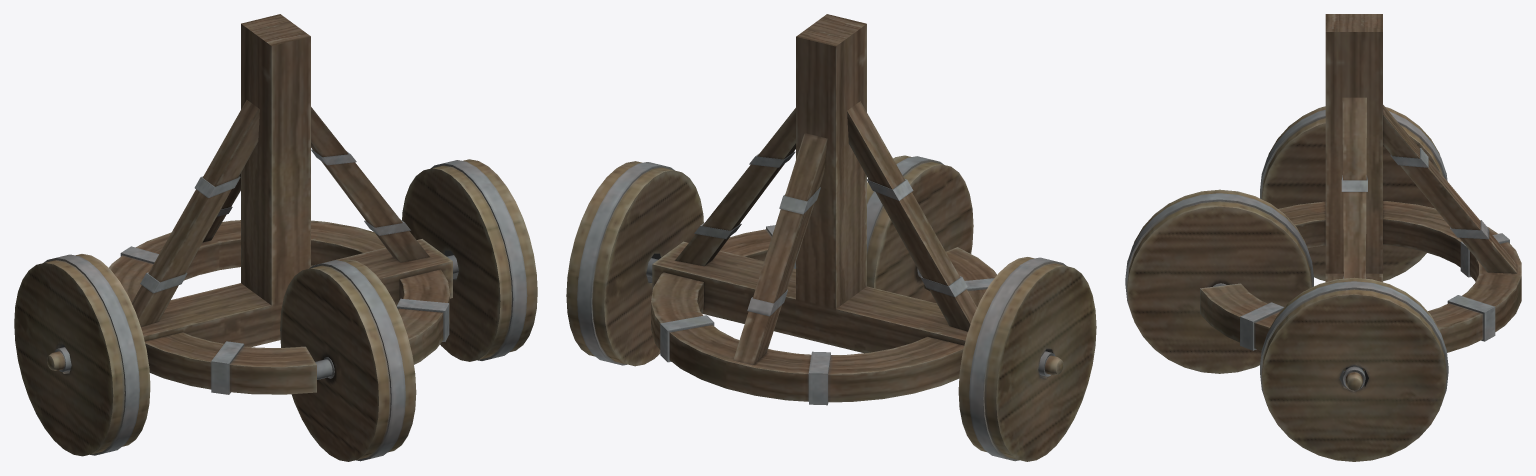
Rendered from SK_Harpoon_Ballista_a.fbx.
3 renders of one model, left to right at view 1: azimuth 30°, elevation 25°; view 2: azimuth 150°, elevation 25°; view 3: azimuth 270°, elevation 25°, orthographic. The views are drawn at different scales.
Parts seen in each view (by area): view 1: SK_Harpoon_Ballista_a; view 2: SK_Harpoon_Ballista_a; view 3: SK_Harpoon_Ballista_a.
Part boxes in pixels (<box>): SK_Harpoon_Ballista_a: <box>14,14,537,461</box>; SK_Harpoon_Ballista_a: <box>566,14,1096,461</box>; SK_Harpoon_Ballista_a: <box>1125,14,1521,461</box>.
Size of the model in its own units: 200 by 156 by 163.
